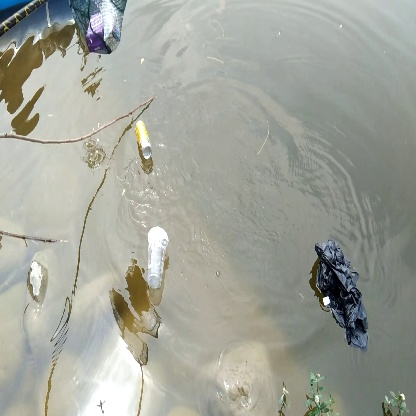bottle: (142, 225, 174, 290), (133, 117, 157, 160)
plastic-bag: (310, 235, 374, 352)
